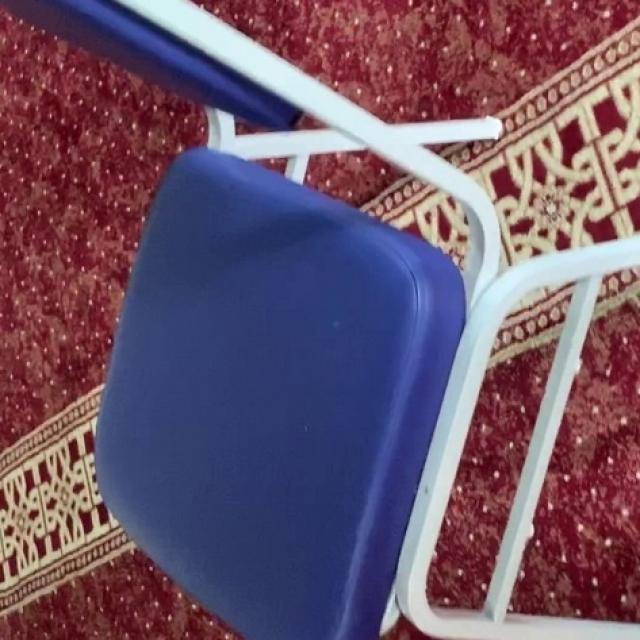Chair: (7, 1, 637, 640)
